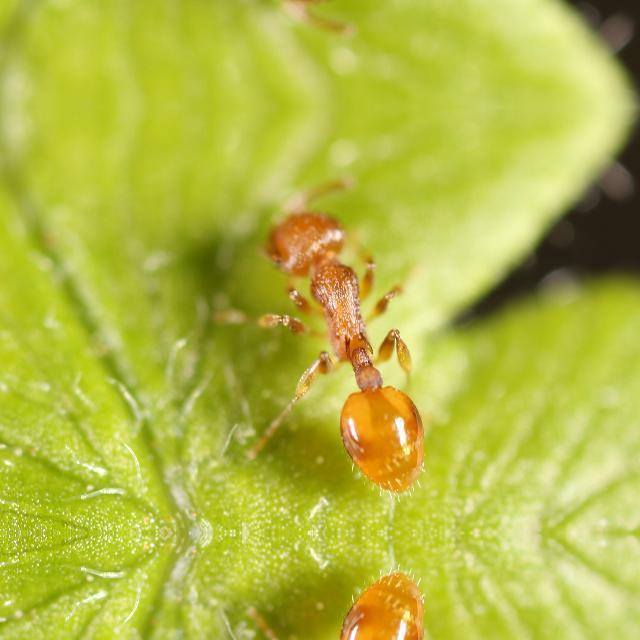Temnothorax: (238, 182, 470, 490), (237, 574, 468, 640)
